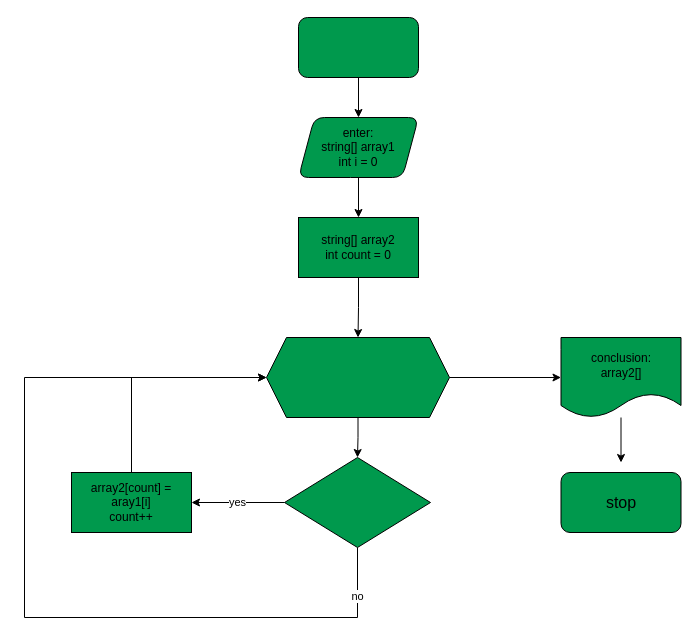
This 699x643 diagram has some shape labels left out. Here are the shapes that lost their labels. From the top down, the centre of each, then its label:
At (358,47): "start".
At (358,377): "i = 0; i < array1.Length; i ++".
At (357,502): "array[i].Length <= 3".
